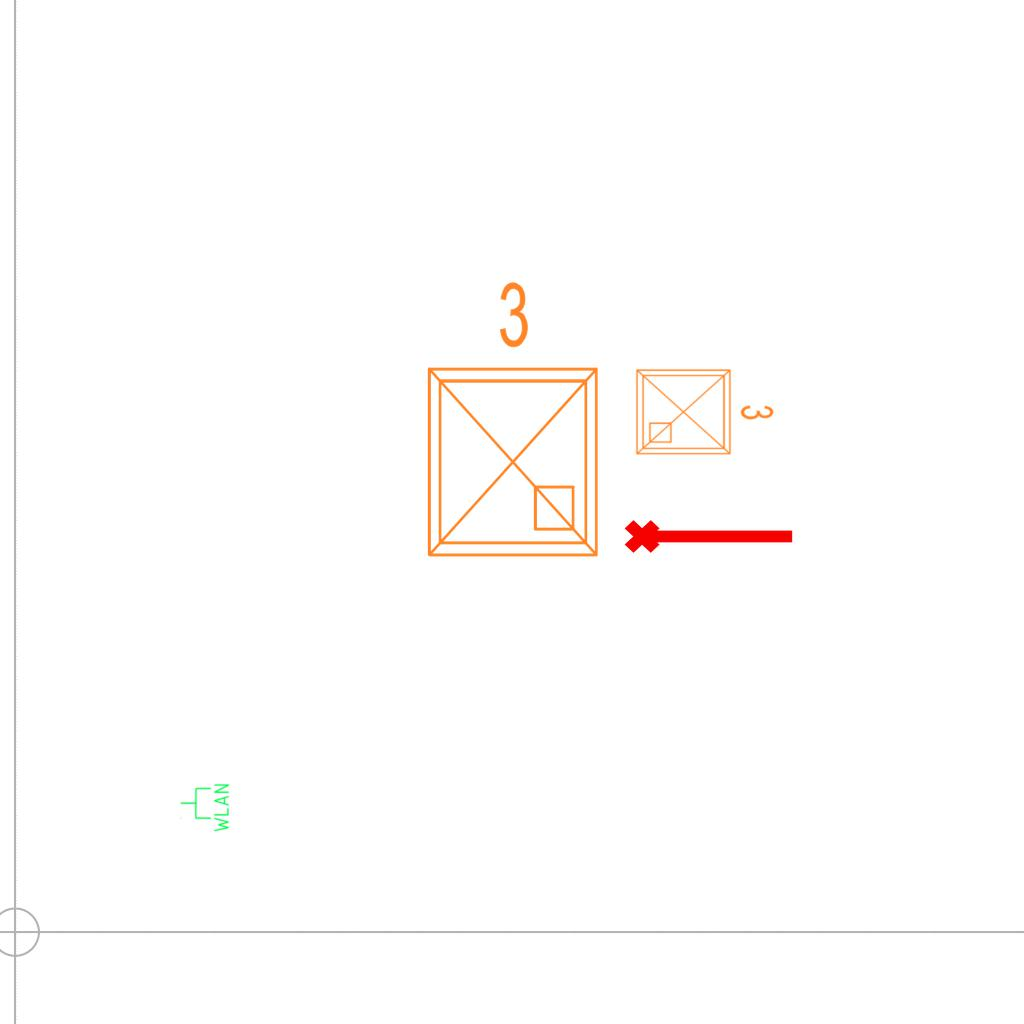ASR_Ansaugoeffnung: (622, 511, 798, 557)
Einbaudownlights_LED_Konferenzraeume: (405, 271, 613, 571), (629, 358, 779, 462)
WLAN: (179, 782, 231, 834)
